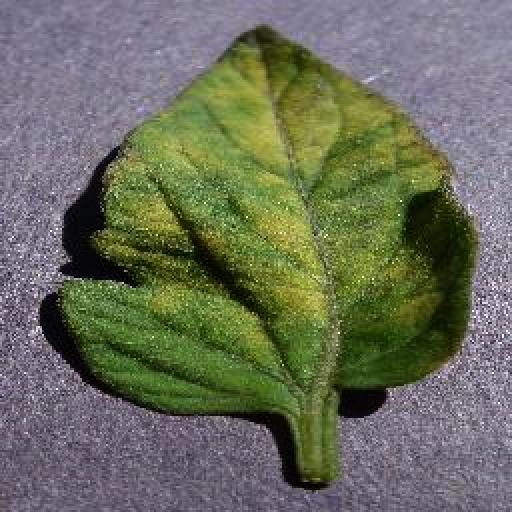disease_tomato: (58, 22, 478, 414)
